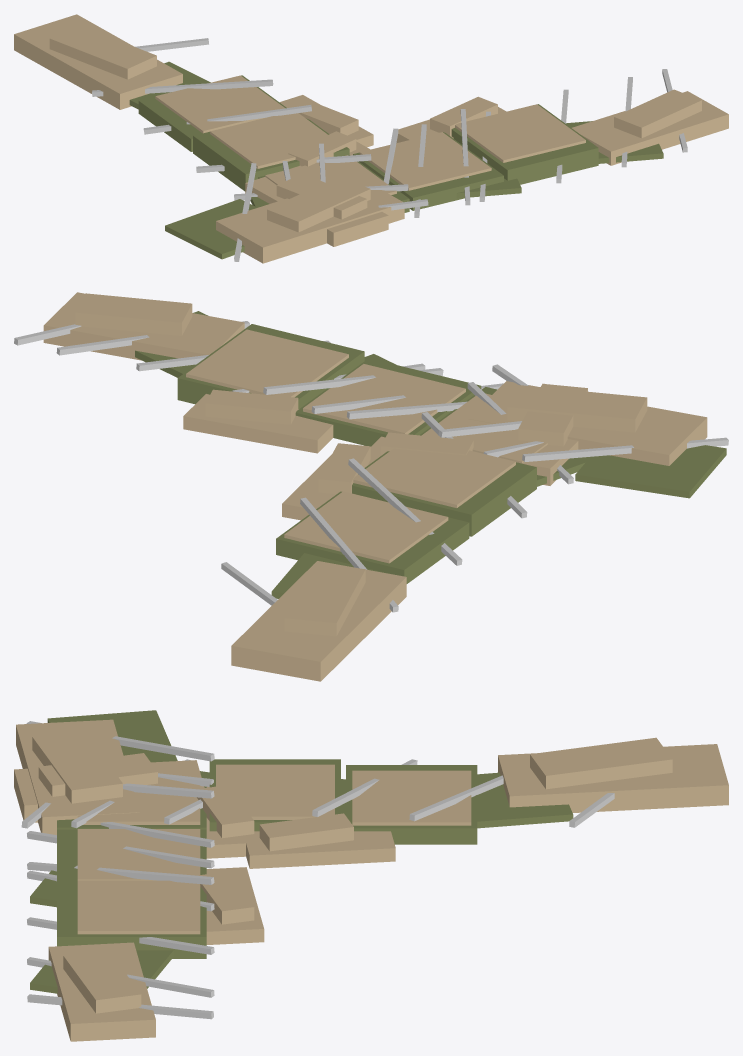
The model's file is SM_HescoEsquina_v2_Escalonado_e3_Brecha_LOD0.fbx.
3 renders of one model, top to bottom at view 1: azimuth 30°, elevation 25°; view 2: azimuth 150°, elevation 25°; view 3: azimuth 270°, elevation 25°, orthographic. The views are drawn at different scales.
Visible parts, largest first — view 1: SM_hesco_piezas_v11_LOD0; view 2: SM_hesco_piezas_v11_LOD0; view 3: SM_hesco_piezas_v11_LOD0.
Boxes of the visible parts, bbox=[...] form: SM_hesco_piezas_v11_LOD0: bbox=[14, 14, 728, 263]; SM_hesco_piezas_v11_LOD0: bbox=[14, 292, 728, 681]; SM_hesco_piezas_v11_LOD0: bbox=[14, 710, 728, 1041].
Size of the model in its own units: 6.23 by 0.3263 by 5.83.
